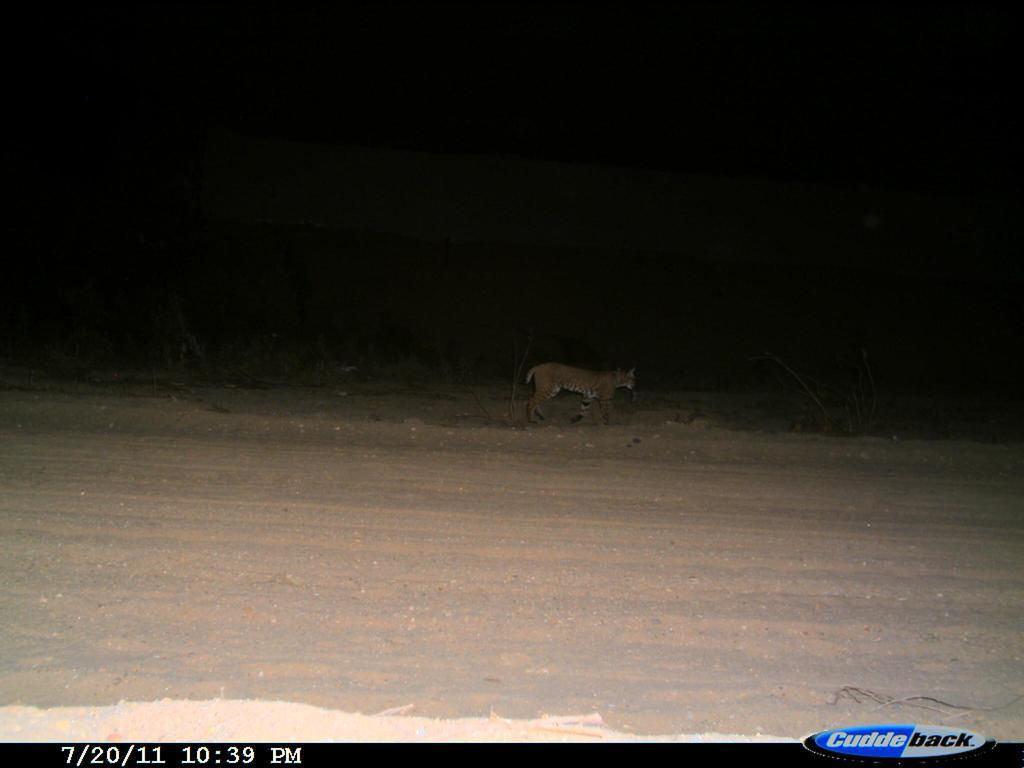bobcat: (509, 347, 653, 442)
